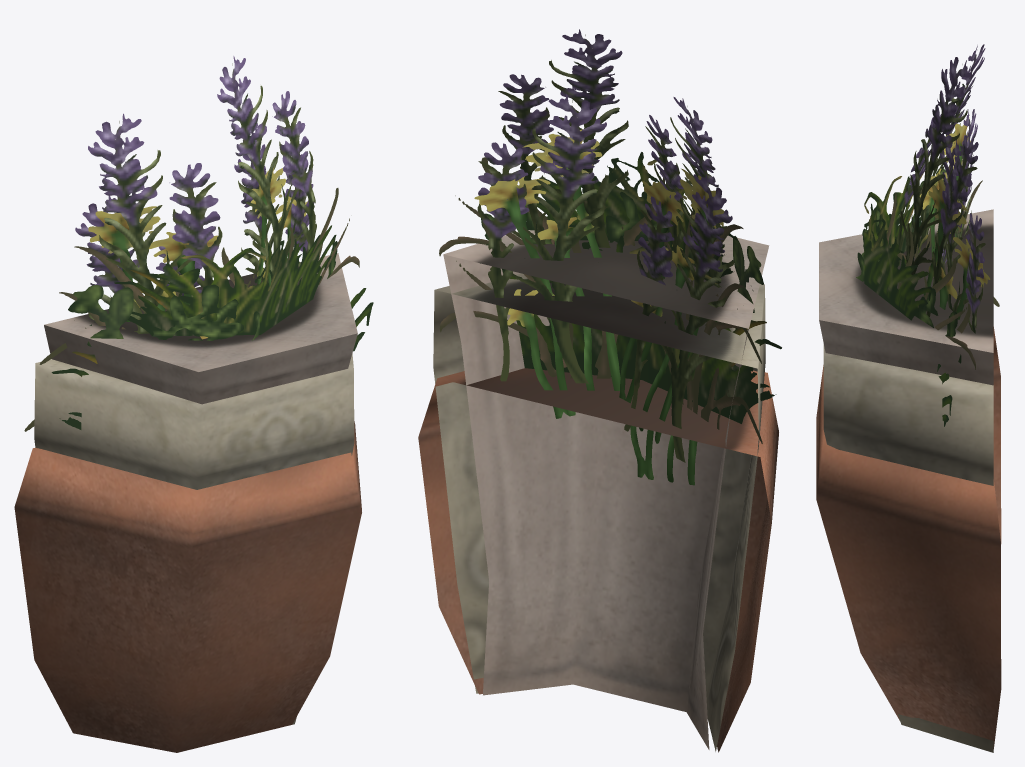
The model's file is flower.fbx.
The picture shows the model from 3 angles, left to right: view 1: azimuth 30°, elevation 25°; view 2: azimuth 150°, elevation 25°; view 3: azimuth 270°, elevation 25°; orthographic projection. The views are drawn at different scales.
Parts seen in each view (by area): view 1: flower_Mesh_002, flower_Mesh_003, flower_Mesh_001; view 2: flower_Mesh_003, flower_Mesh_002, flower_Mesh_001; view 3: flower_Mesh_002, flower_Mesh_003, flower_Mesh_001.
Boxes of the visible parts, x1,y1,x2,y2 form: flower_Mesh_002: (14,126,373,752); flower_Mesh_003: (44,56,357,404); flower_Mesh_001: (34,167,359,724); flower_Mesh_003: (443,29,769,749); flower_Mesh_002: (418,94,781,752); flower_Mesh_001: (433,129,765,751); flower_Mesh_002: (816,109,1001,748); flower_Mesh_003: (819,44,993,385); flower_Mesh_001: (823,117,993,752).
Bounding box in the file's own units: 22.76 × 41.23 × 10.82.
